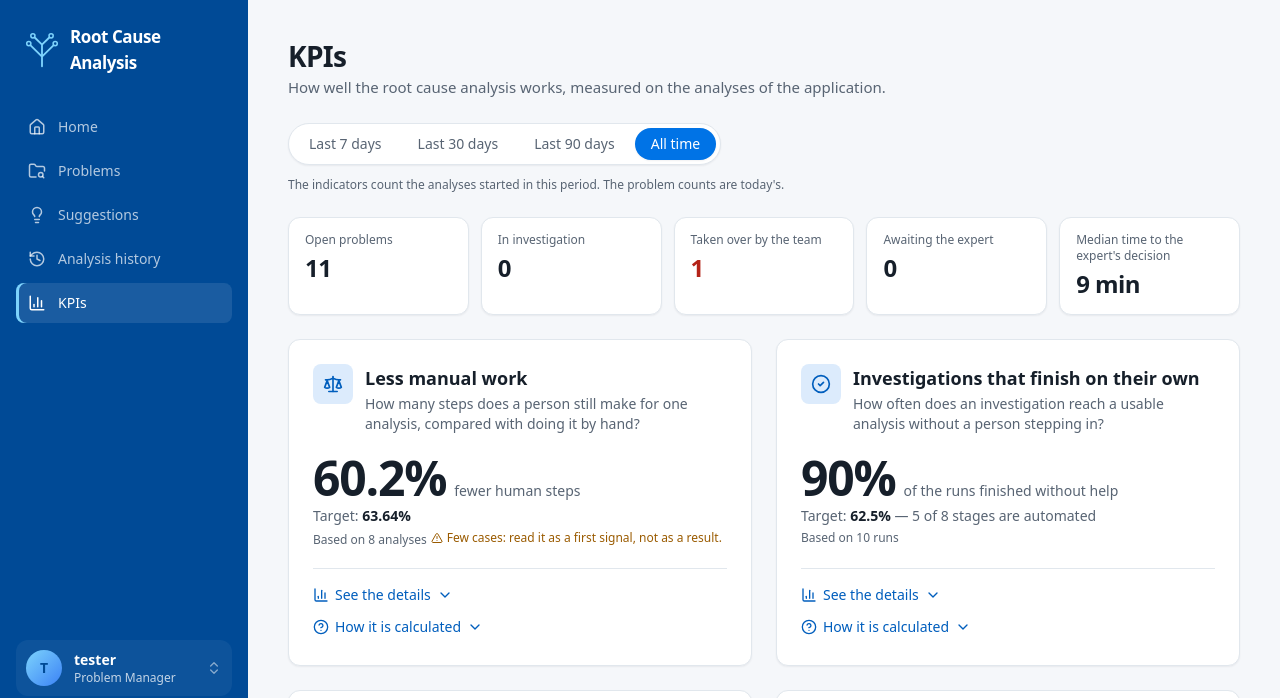
Test: KPI page › does not draw a bar for a confidence level without decisions
Expected: the text "60.2%" is shown, x1=313 y1=454 x2=446 y2=502
What coordinates should you click on to do the following:
click the button "See the details" below "63.64%"
I would click on:
 (383, 594)
Its box is x1=313 y1=580 x2=453 y2=608.
(page scrolled)
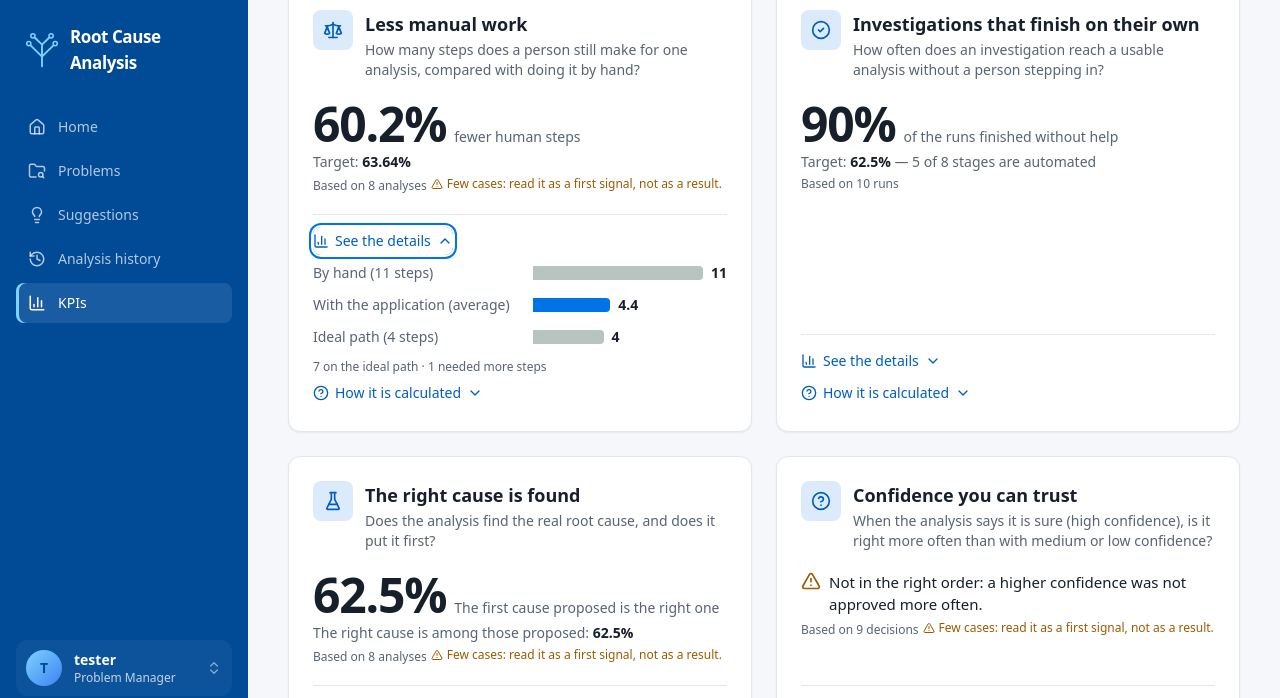
What coordinates should you click on to do the following:
click the button "See the details" below "Based on 10 runs"
I would click on:
 (871, 360)
Its box is x1=801 y1=346 x2=941 y2=374.
(page scrolled)
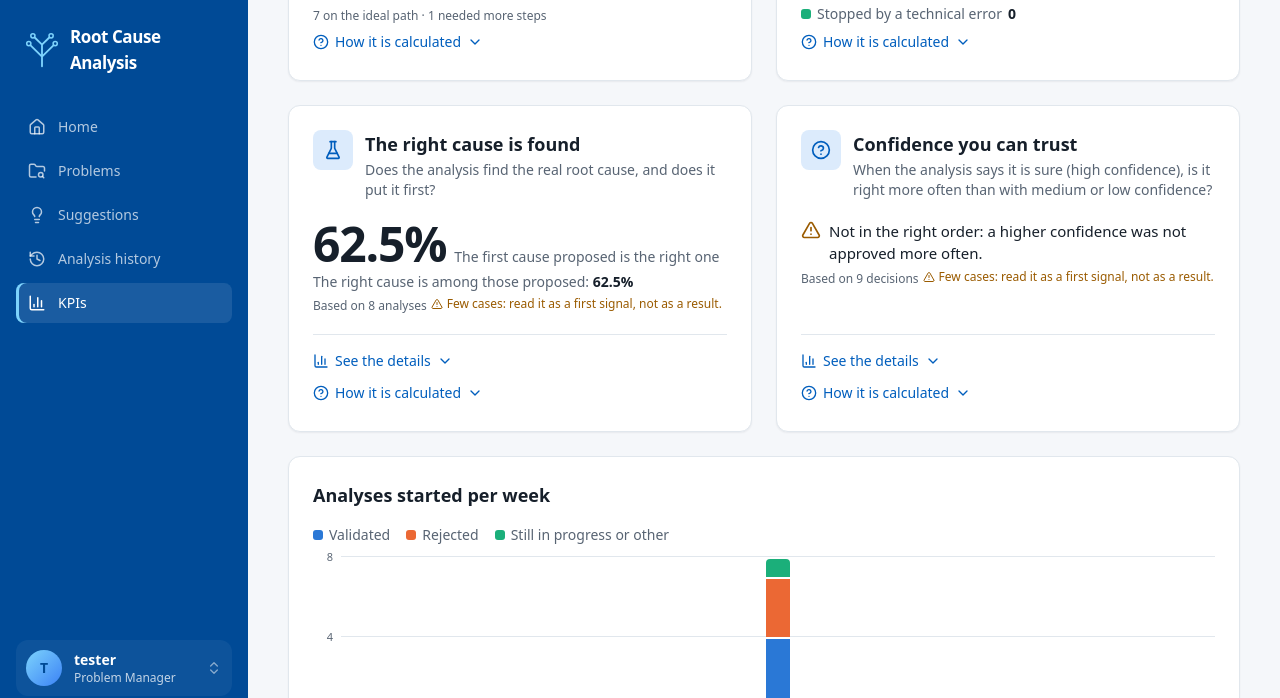
What coordinates should you click on to do the following:
click the button "See the details" below "The right cause is among those proposed"
I would click on:
 (383, 360)
Its box is x1=313 y1=346 x2=453 y2=374.
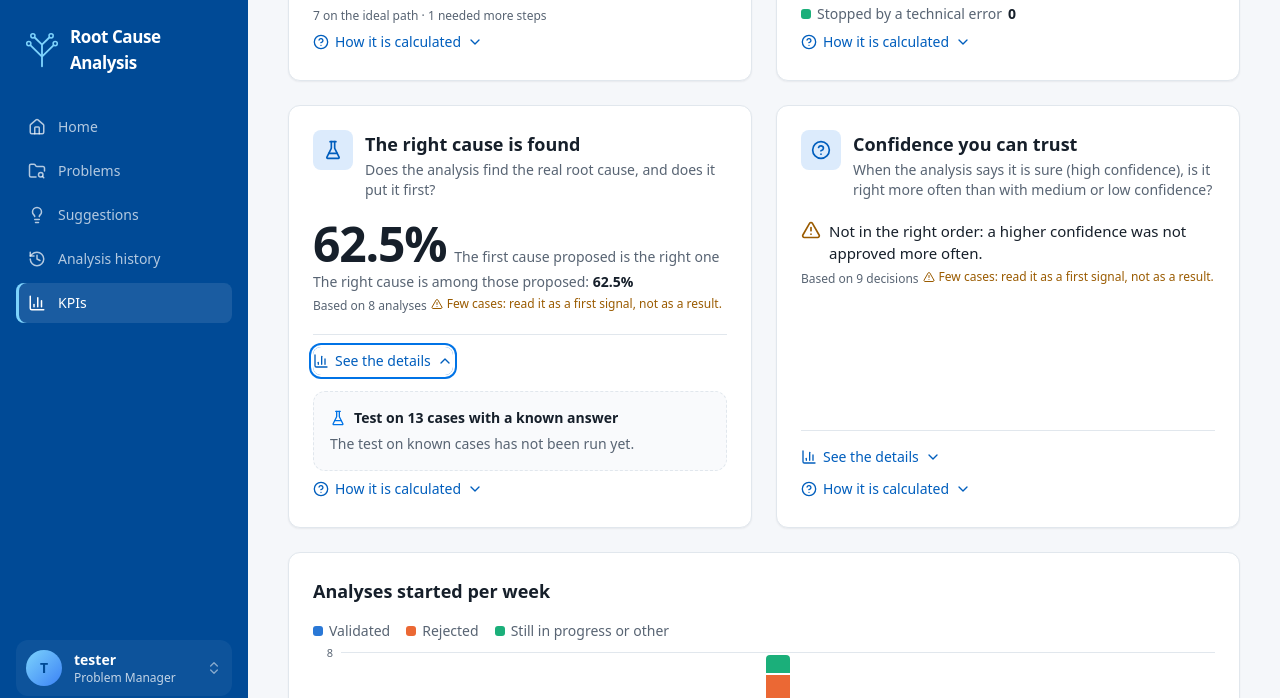
What coordinates should you click on to do the following:
click the button "See the details" below "Based on 9 decisions"
I would click on:
 (871, 456)
Its box is x1=801 y1=442 x2=941 y2=470.
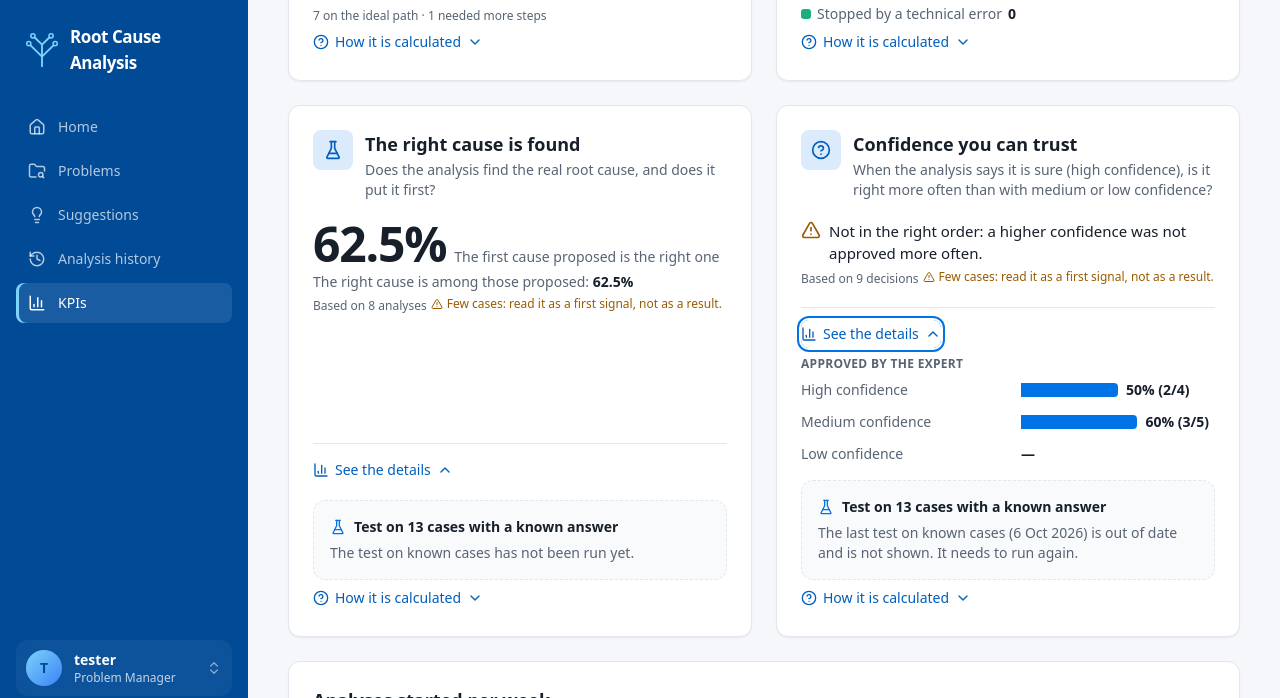
Expected: the text "50% (2/4)" is shown 2 times
